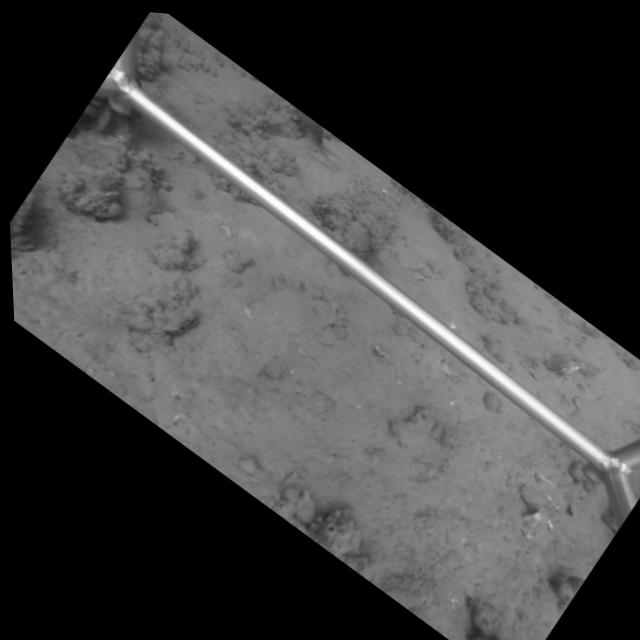Oyster-Closed: (60, 185, 125, 223), (125, 309, 201, 341)
Oyster-Indeterminate: (387, 408, 453, 469)
